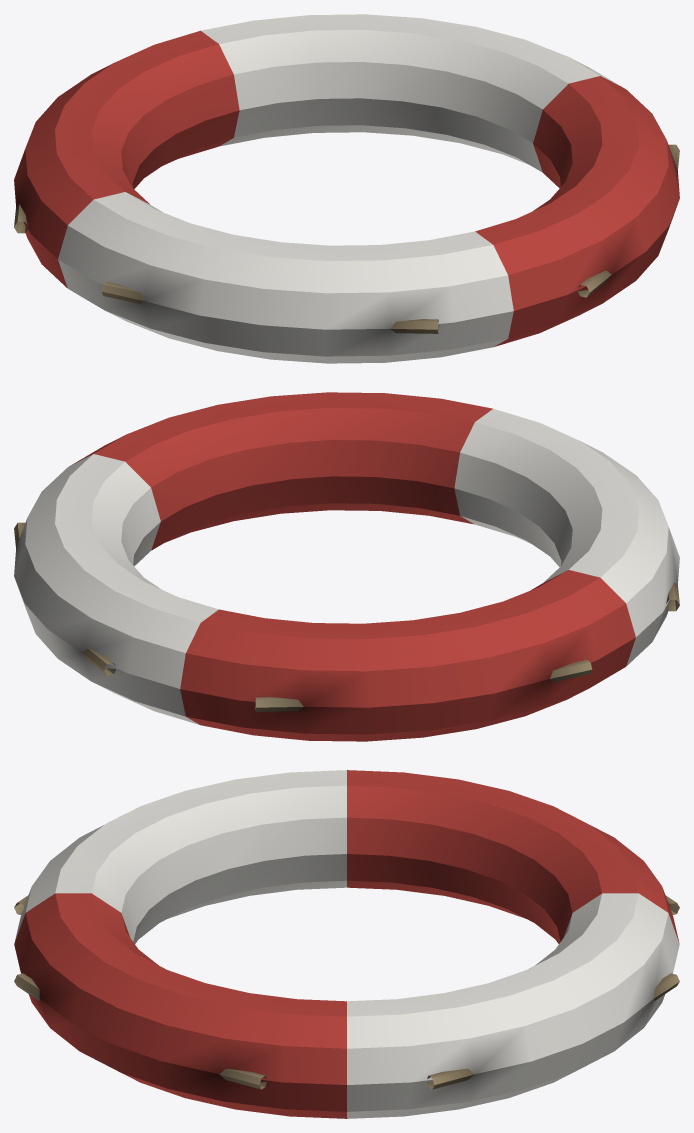
The model's file is life_ring.glb.
3 views of the same model, one above another, from view 1: azimuth 30°, elevation 25°; view 2: azimuth 150°, elevation 25°; view 3: azimuth 270°, elevation 25° (orthographic).
Parts seen in each view (by area): view 1: boat_paint_white, boat_rope; view 2: boat_paint_white, boat_rope; view 3: boat_paint_white, boat_rope.
Boxes of the visible parts, x1=… form: boat_paint_white: x1=14, y1=14, x2=679, y2=363; boat_rope: x1=14, y1=144, x2=679, y2=333; boat_paint_white: x1=14, y1=392, x2=679, y2=741; boat_rope: x1=14, y1=522, x2=679, y2=711; boat_paint_white: x1=14, y1=770, x2=679, y2=1118; boat_rope: x1=14, y1=895, x2=679, y2=1089.
Size of the model in its own units: 0.7305 by 0.1236 by 0.7305.
